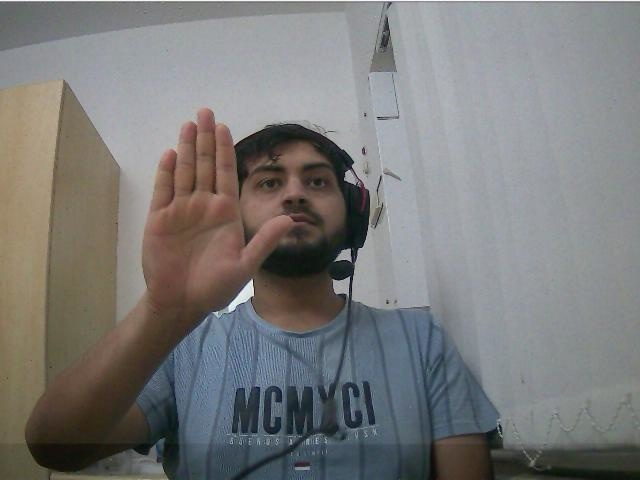up: (143, 106, 244, 311)
